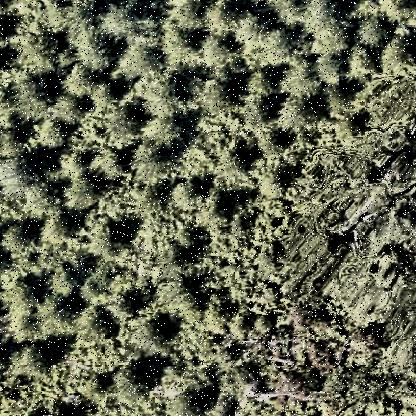tree-top: (322, 249, 405, 330), (17, 27, 62, 75), (14, 75, 58, 121), (73, 304, 117, 347), (1, 274, 42, 320), (101, 103, 143, 145), (132, 142, 170, 187), (119, 36, 159, 78), (139, 78, 179, 120), (191, 78, 235, 116), (13, 341, 53, 381), (111, 359, 151, 399), (154, 275, 194, 315), (98, 2, 138, 41), (131, 181, 171, 220), (279, 60, 320, 98), (63, 175, 103, 213), (303, 1, 343, 39), (80, 31, 114, 75), (275, 95, 316, 130), (84, 219, 122, 256), (146, 113, 184, 149), (234, 8, 270, 46), (167, 385, 211, 416), (200, 1, 238, 36), (42, 298, 76, 337), (92, 146, 128, 182), (62, 60, 98, 96), (383, 34, 416, 72), (169, 1, 207, 33), (201, 297, 233, 335), (35, 118, 70, 152), (201, 34, 235, 69), (168, 180, 202, 213), (345, 43, 377, 78), (42, 210, 72, 246), (358, 14, 390, 47), (54, 91, 86, 123), (47, 267, 79, 299), (1, 156, 29, 192), (245, 68, 278, 98), (5, 221, 35, 253), (313, 55, 343, 87), (172, 221, 204, 251), (58, 151, 88, 181), (206, 185, 234, 217), (223, 142, 253, 170), (378, 1, 412, 23), (2, 124, 22, 158)
